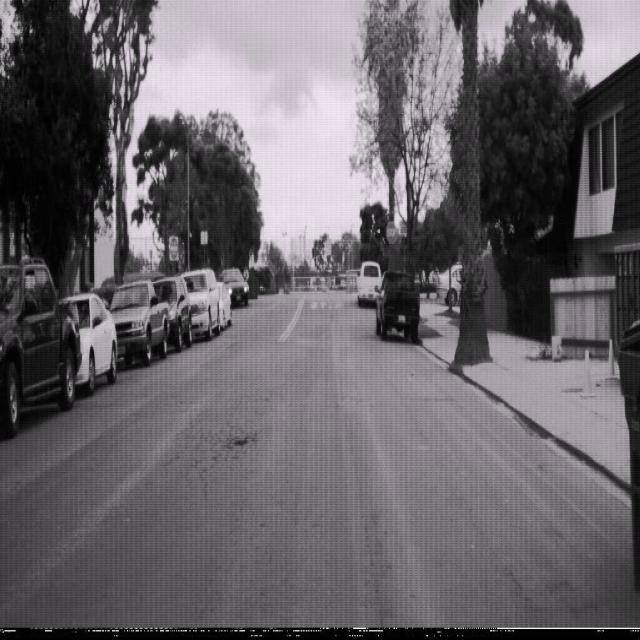doNotEnter: (169, 235, 179, 260)
stop: (385, 219, 398, 244)
